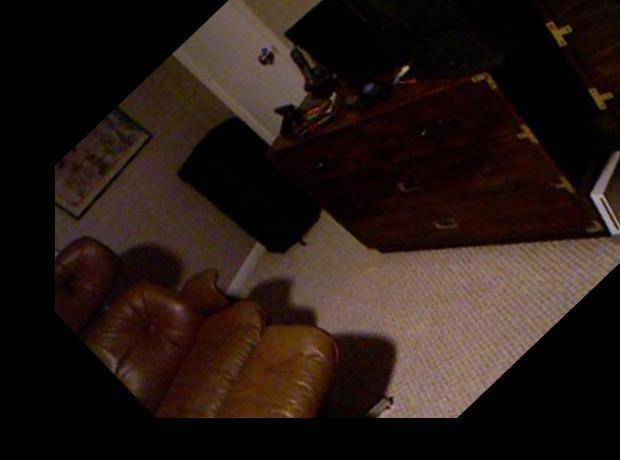Armario: (262, 0, 620, 371), (420, 0, 620, 204)
